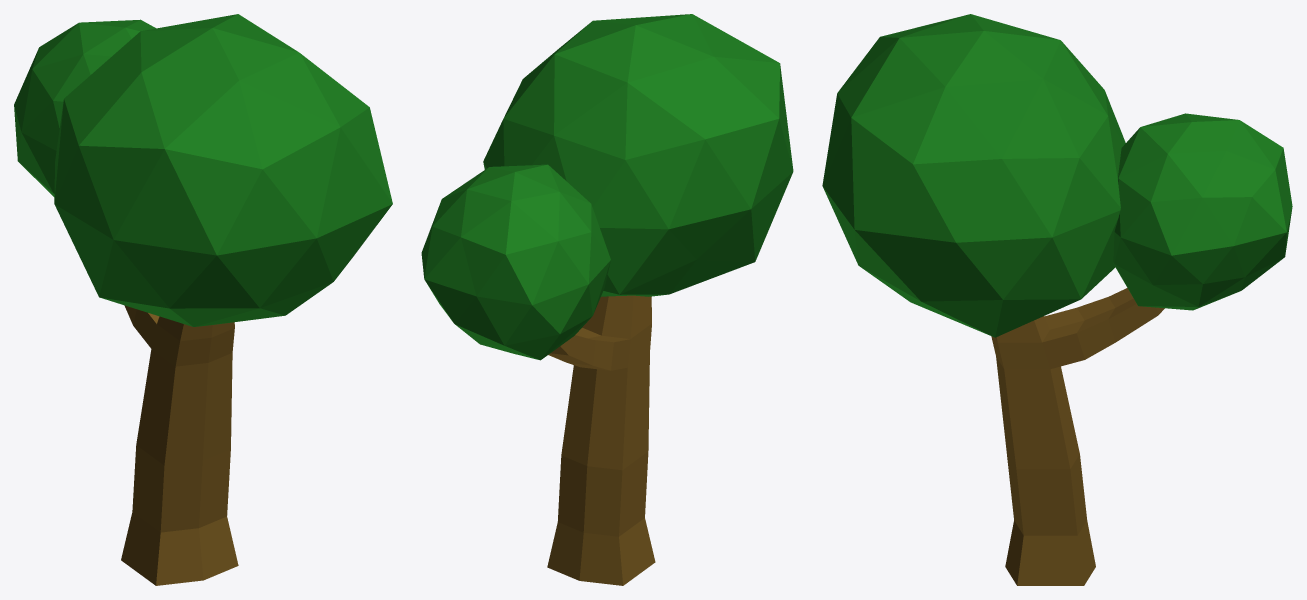
File: forest_tree_3.fbx
3 views of the same model, side by side, from view 1: azimuth 30°, elevation 25°; view 2: azimuth 150°, elevation 25°; view 3: azimuth 270°, elevation 25° (orthographic). The views are drawn at different scales.
Visible parts, largest first — view 1: Icosphere.044; view 2: Icosphere.044; view 3: Icosphere.044.
Part boxes in pixels (bbox=[...]): Icosphere.044: bbox=[14, 14, 392, 585]; Icosphere.044: bbox=[421, 14, 793, 585]; Icosphere.044: bbox=[822, 14, 1292, 585].
Bounding box in the file's own units: 610 × 1144 × 911.
